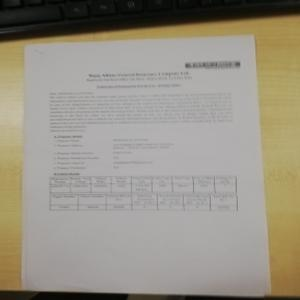table: (49, 175, 236, 194), (47, 194, 239, 212)
text: (49, 91, 234, 128), (50, 133, 178, 171), (86, 71, 195, 87)
